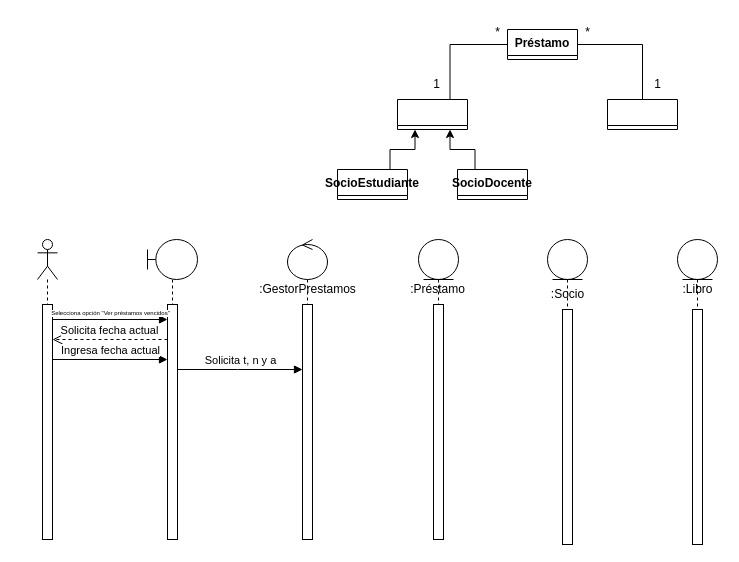
Image size: 739x562. Some labels were removed from this diagram. The box of each missing label's shape, as (x1, y1, x2, y2) in pixels:
:Interfaz: (146, 238, 198, 540)
Libro: (606, 98, 678, 130)
Socio: (396, 98, 468, 130)
Usuario: (36, 238, 58, 540)
